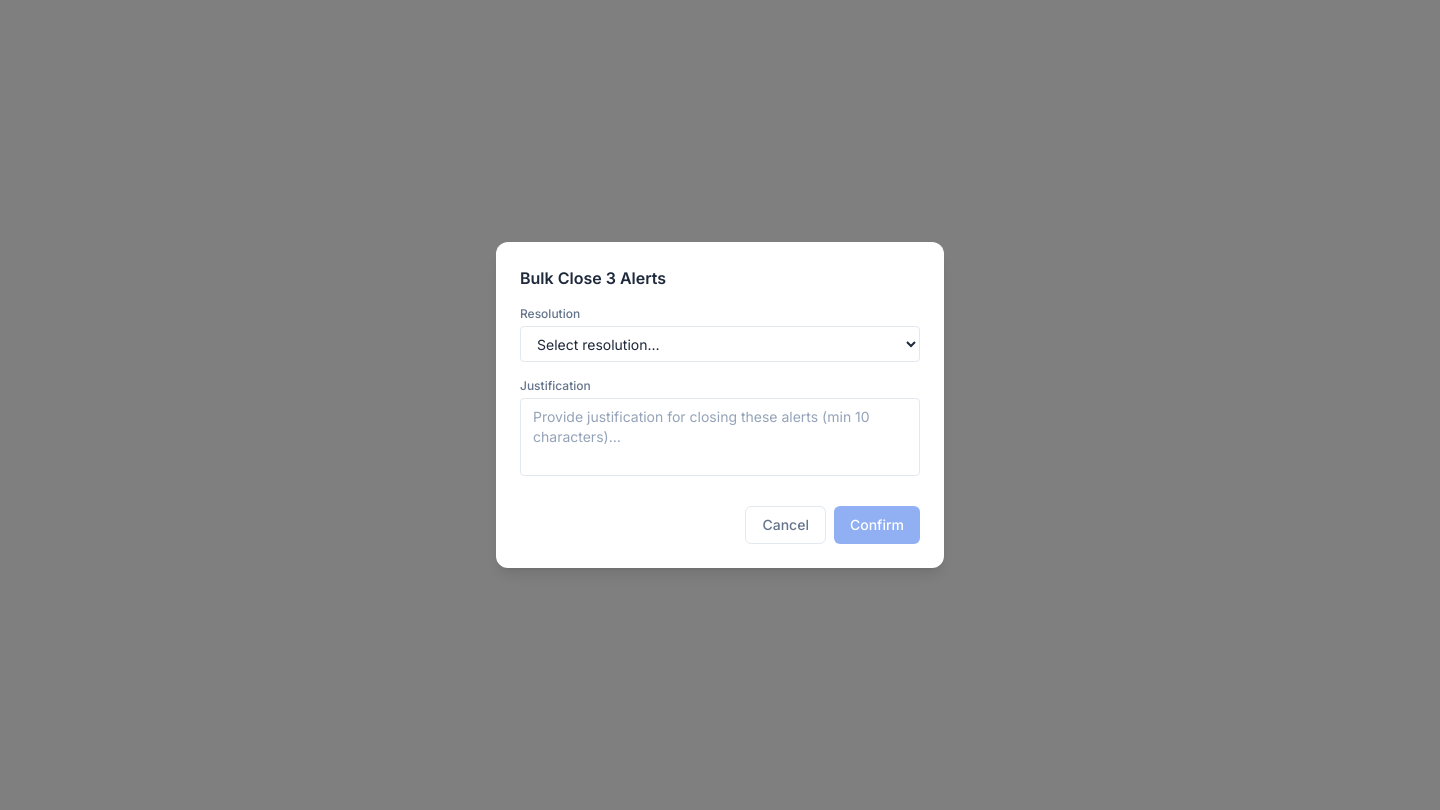
Test case: BulkCloseModal › confirm button is enabled when both fields are valid
Select "No Suspicion" in the dropdown labelled "Resolution" at (720, 344), box [520,326,920,362]
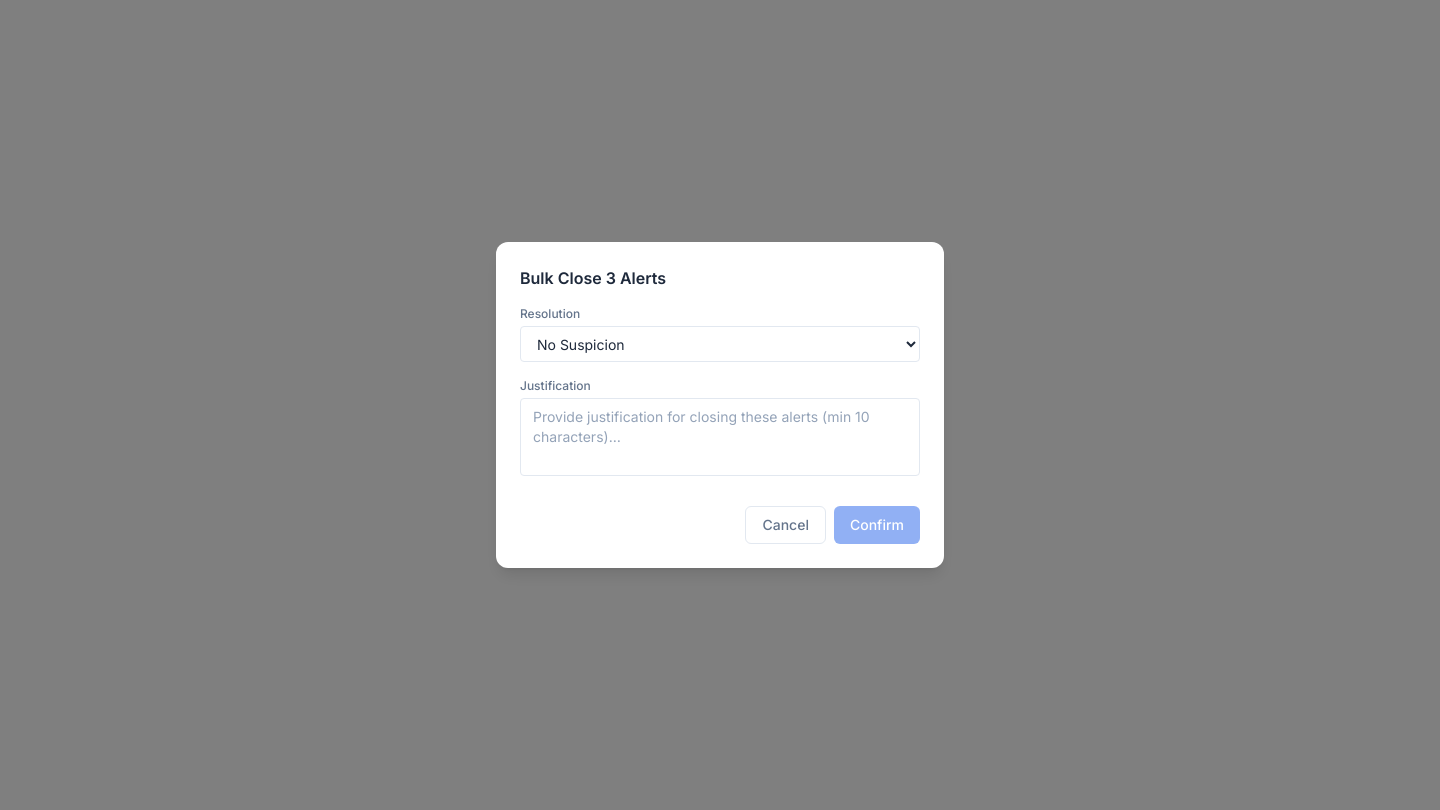
Replace the text in the text box labelled "Justification" with "This alert has been reviewed and found to be compliant." at (720, 437), box [520,398,920,476]
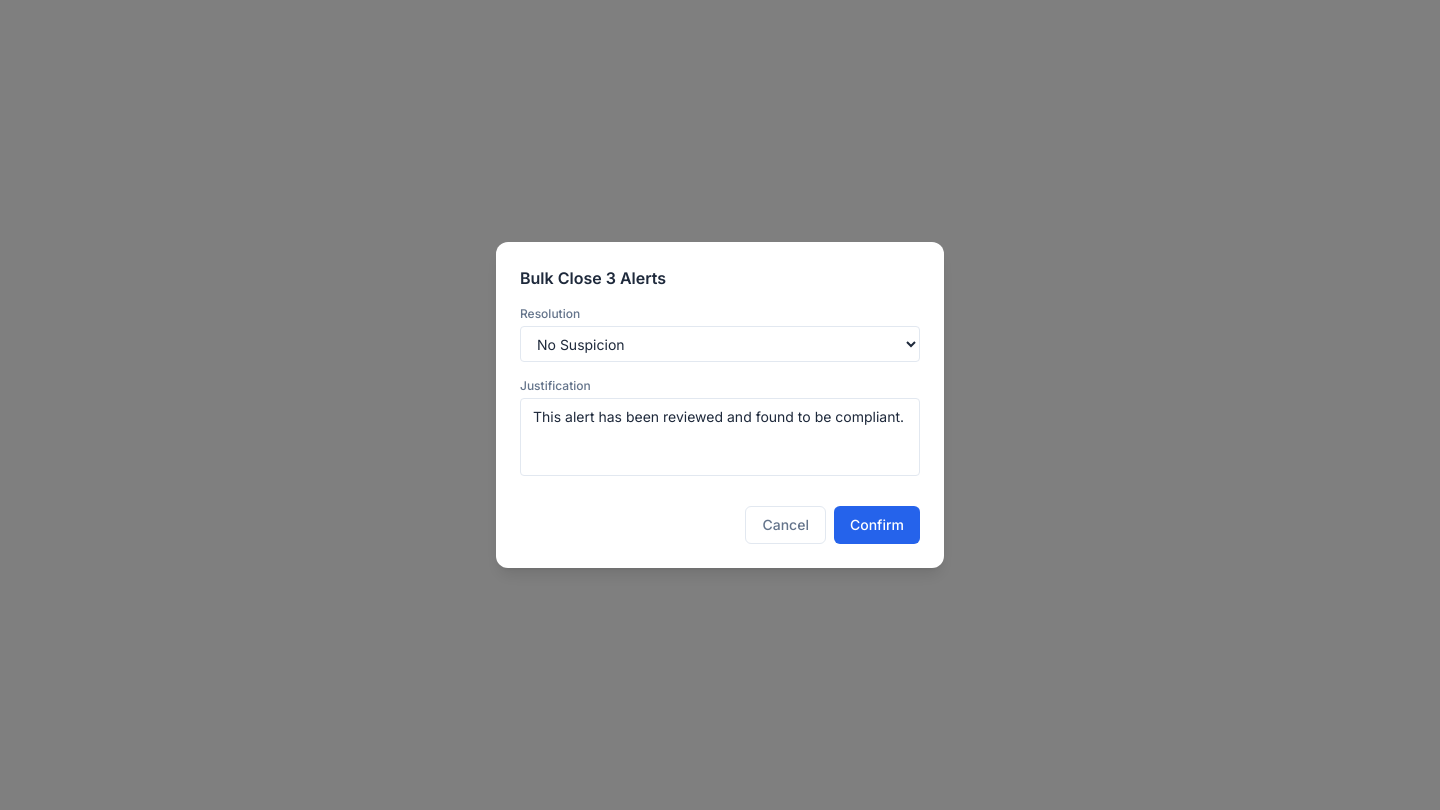
Check: the button "Confirm" is enabled, box [834,506,920,544]
